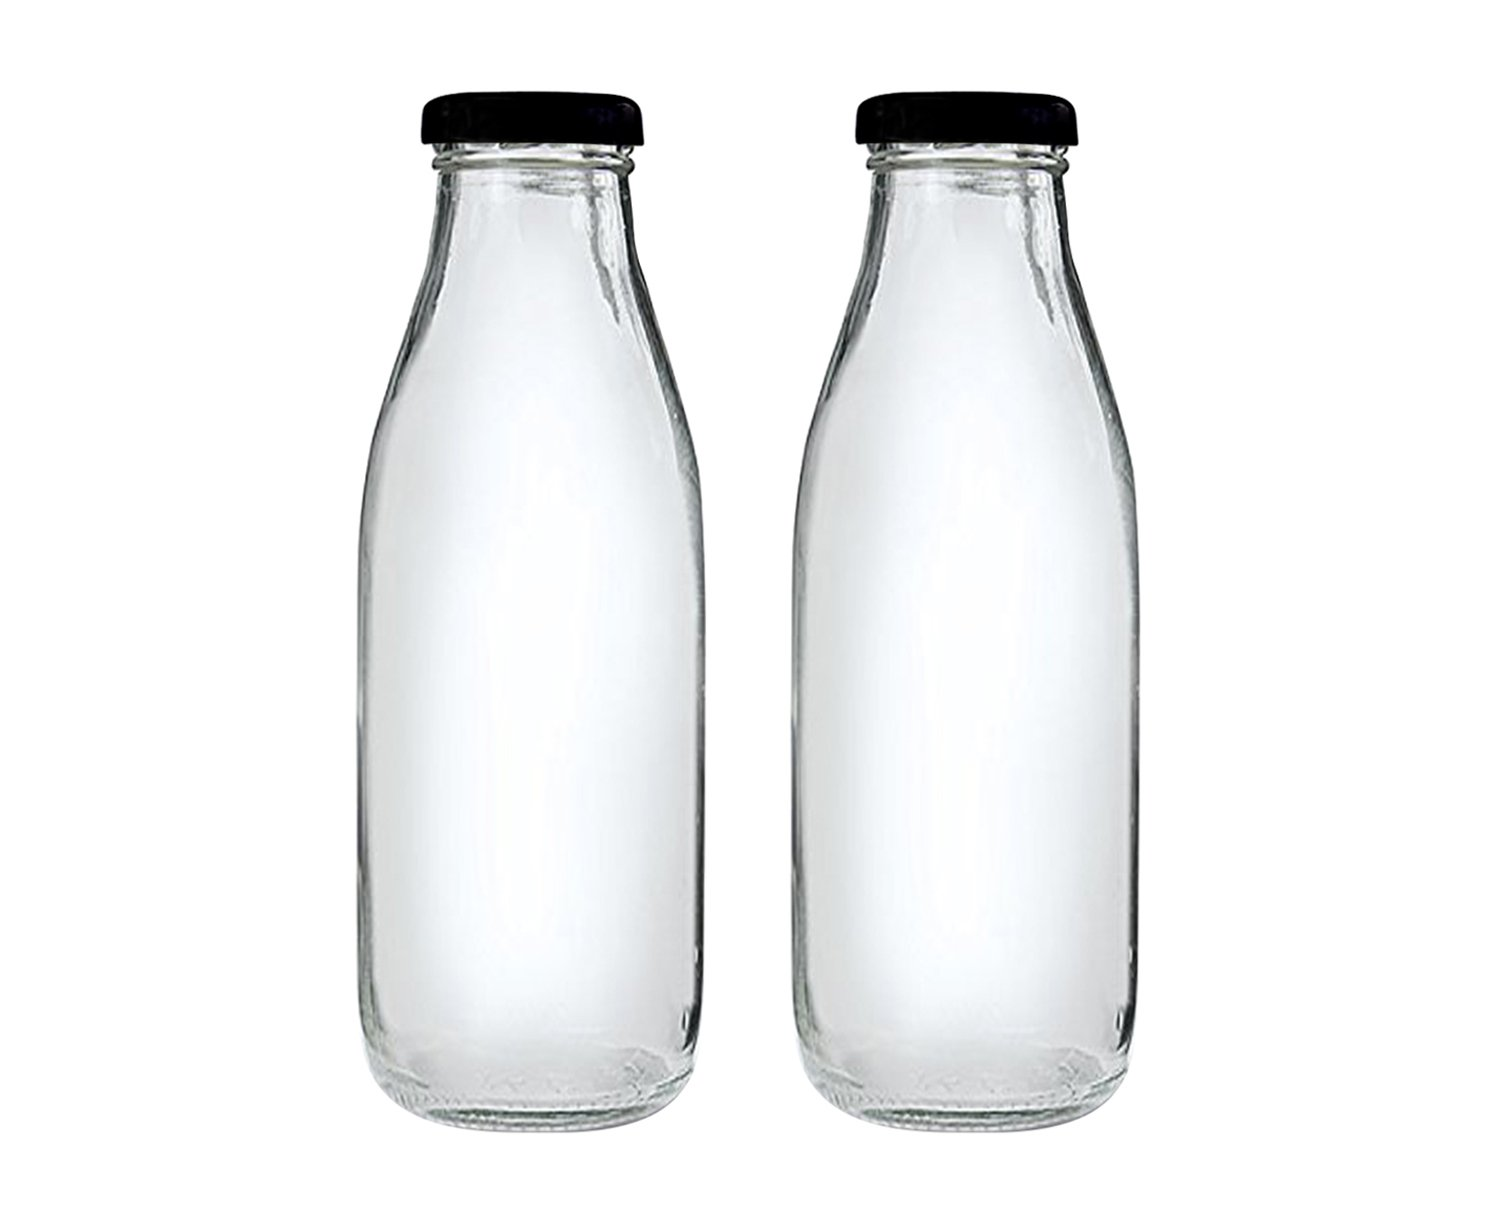glass_bottle: (762, 78, 1160, 1144), (331, 61, 718, 1152)
